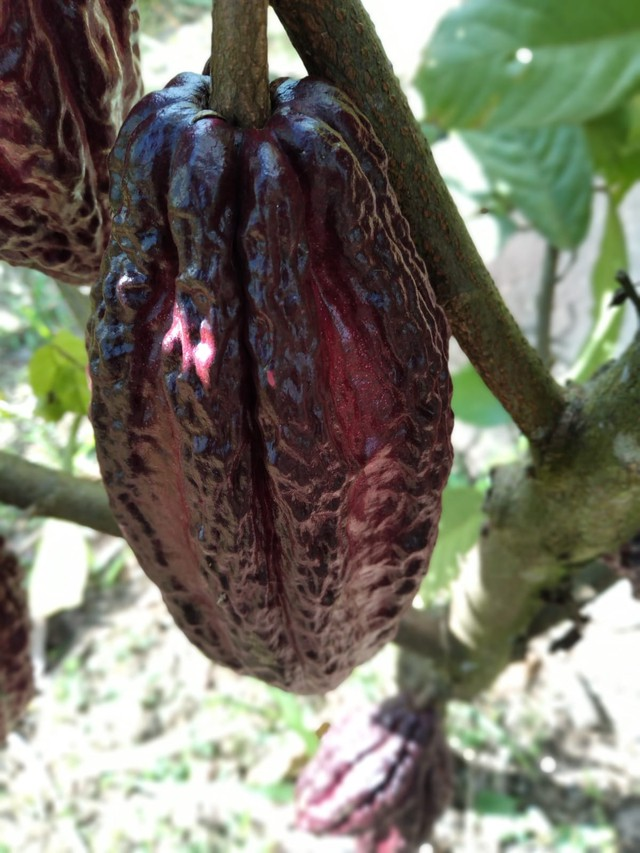Health: (70, 37, 474, 710)
